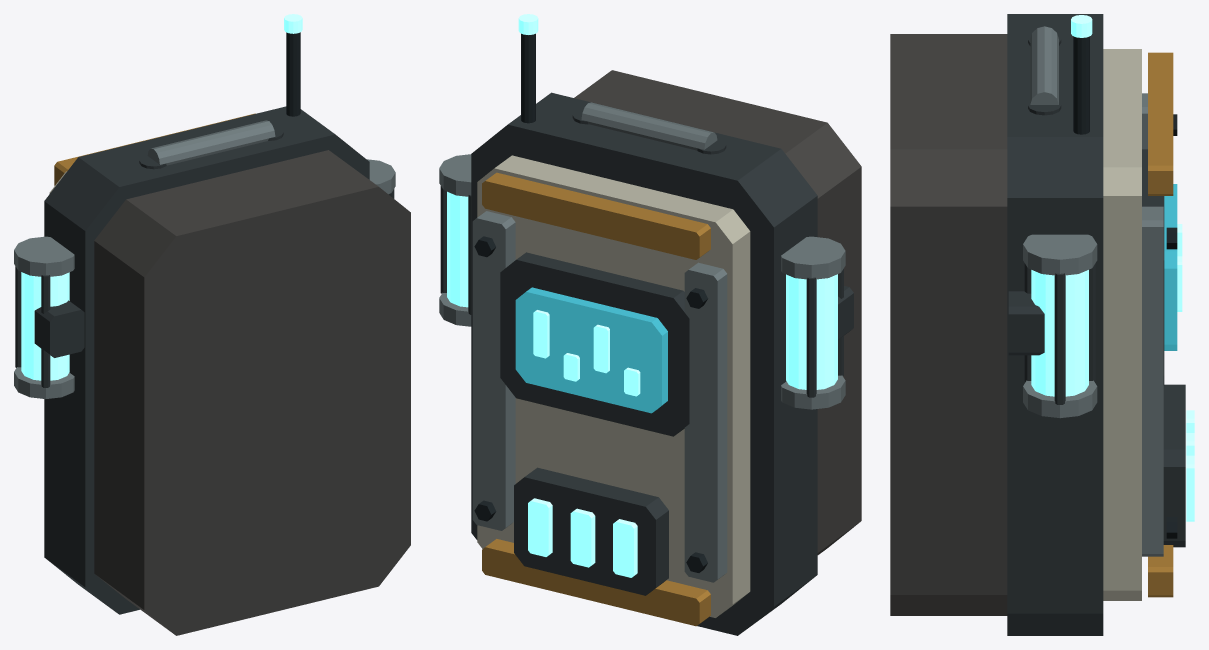
Rendered from backpack_research.glb.
3 views of the same model, side by side, from view 1: azimuth 30°, elevation 25°; view 2: azimuth 150°, elevation 25°; view 3: azimuth 270°, elevation 25° (orthographic). The views are drawn at different scales.
Parts seen in each view (by area): view 1: backpack_research; view 2: backpack_research; view 3: backpack_research.
Boxes of the visible parts, x1,y1,x2,y2 form: backpack_research: (14,14,410,635); backpack_research: (439,14,861,635); backpack_research: (890,14,1194,635).
Bounding box in the file's own units: 0.4219 × 0.563 × 0.2545.
